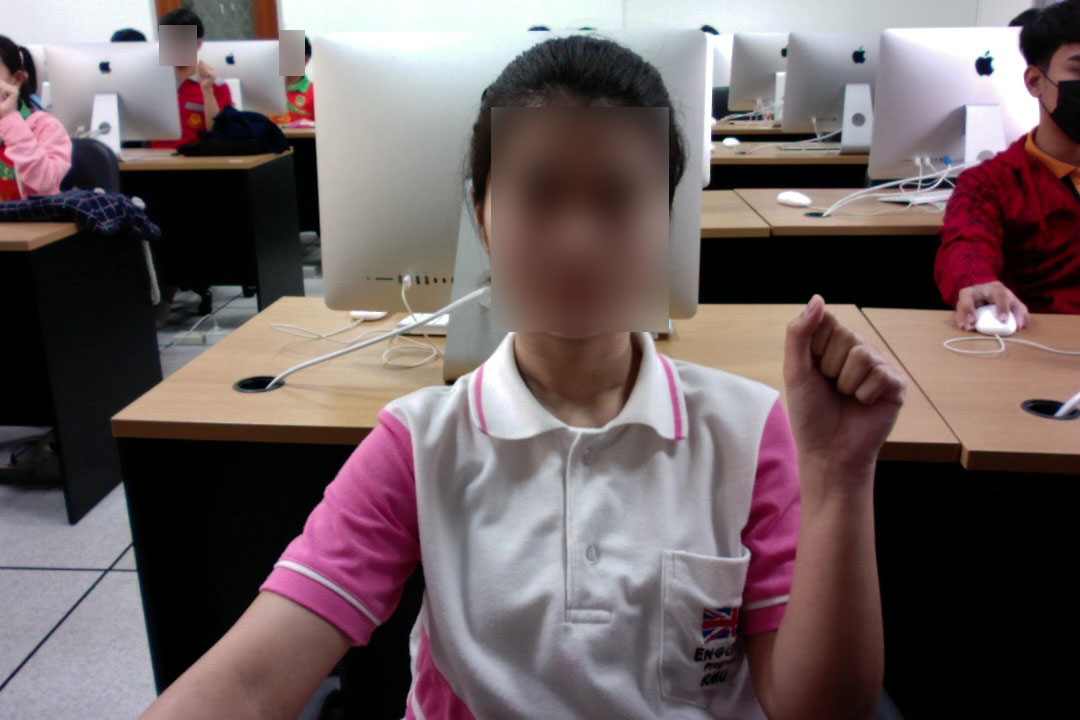or: (763, 283, 912, 500)
